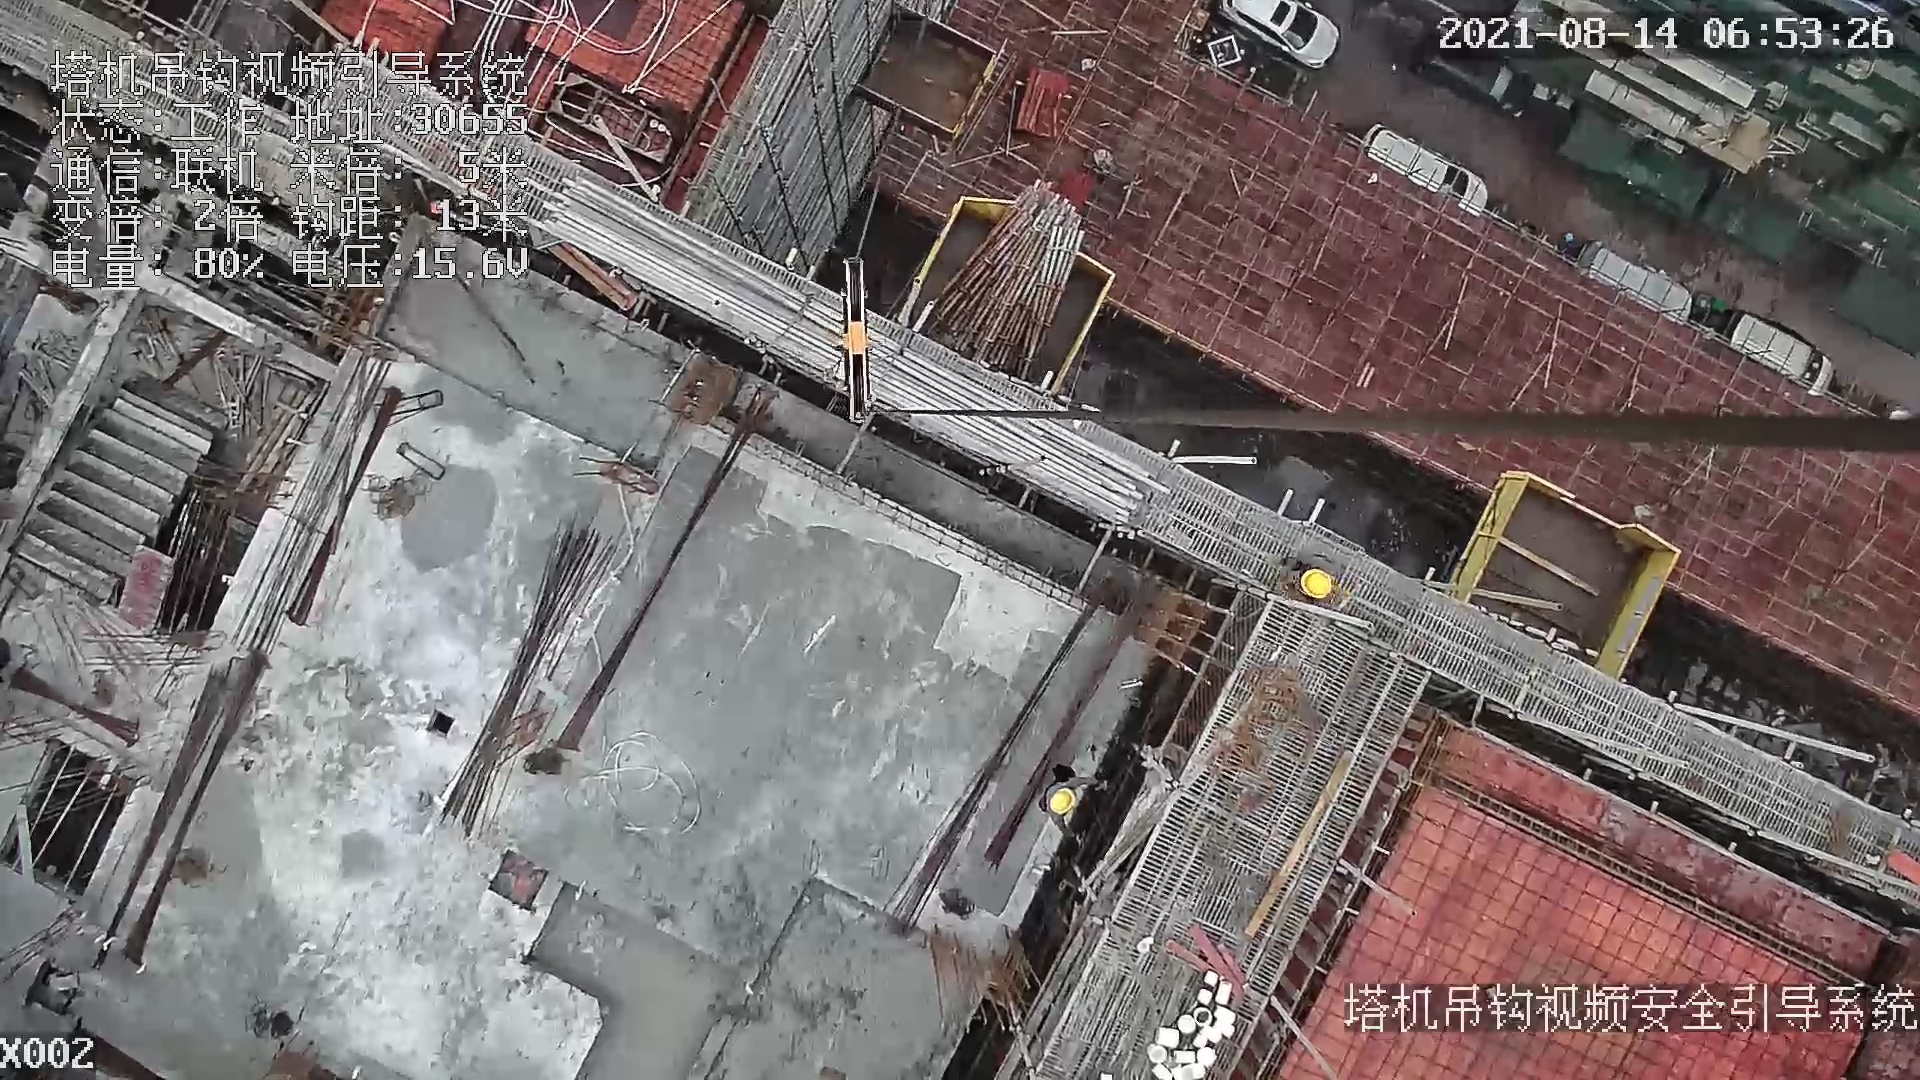helmet: (1299, 569, 1332, 599), (1049, 787, 1076, 814)
hook: (835, 253, 883, 424)
person: (1045, 763, 1104, 844), (1279, 537, 1346, 606)
rebar: (531, 176, 1158, 527), (429, 527, 615, 841)
scaffold: (917, 181, 1083, 384)
